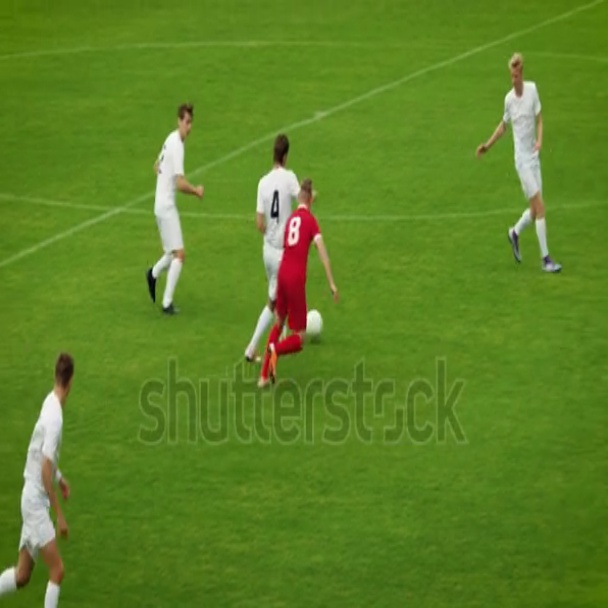ball: (306, 307, 323, 342)
